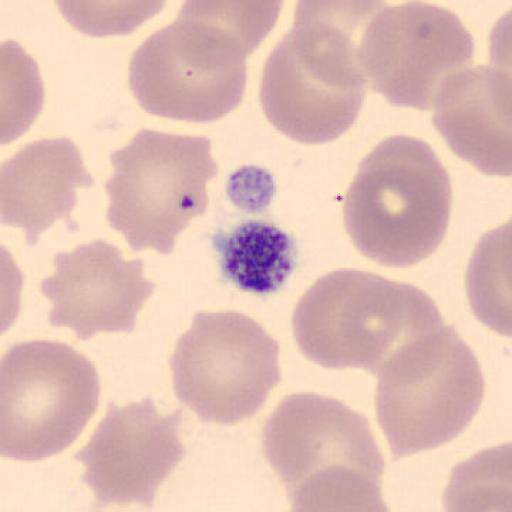Platelet: (214, 216, 302, 297)
RBC: (289, 266, 448, 379), (260, 388, 388, 510), (372, 327, 488, 459), (342, 132, 452, 270), (103, 127, 218, 257), (167, 308, 284, 427), (256, 25, 368, 147), (356, 1, 476, 112), (126, 19, 249, 125), (2, 338, 103, 463), (77, 396, 186, 508), (290, 265, 404, 371), (39, 237, 154, 341), (352, 274, 447, 380), (2, 135, 93, 242), (431, 63, 512, 178), (291, 0, 393, 86), (175, 1, 287, 60), (463, 218, 512, 340), (292, 0, 391, 55), (286, 464, 394, 512), (441, 440, 512, 512), (2, 37, 46, 146), (52, 0, 172, 39), (488, 4, 512, 109), (0, 241, 24, 339)
